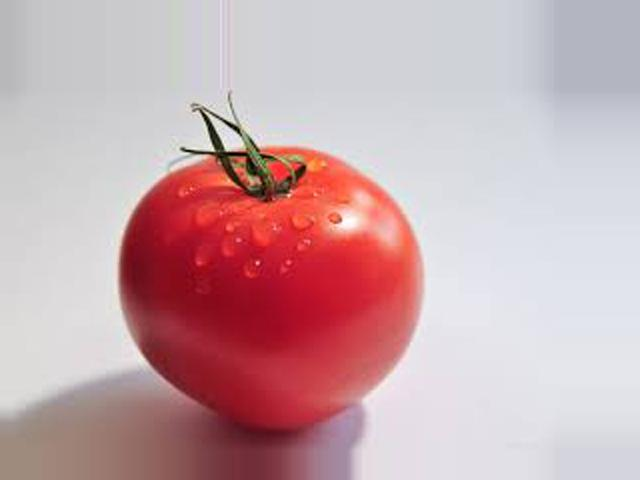tomato: (120, 150, 424, 430)
